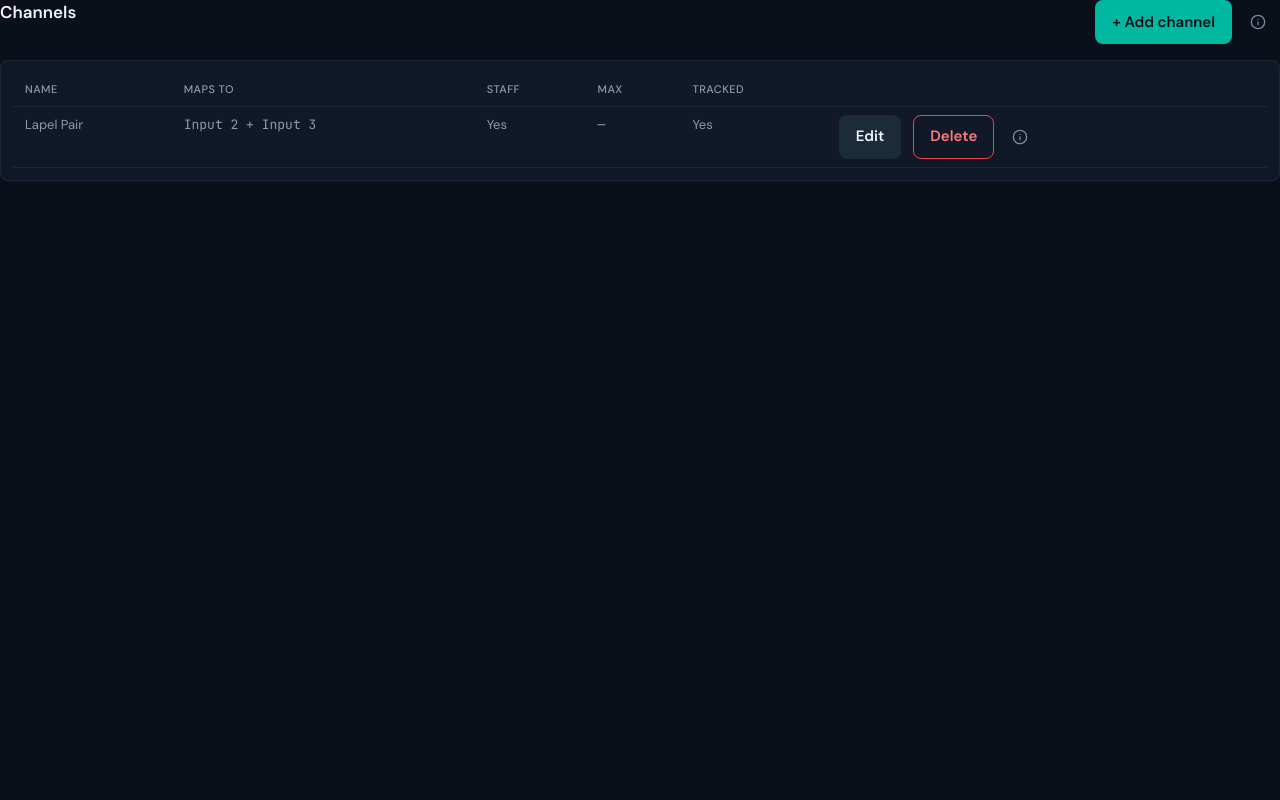
Test: ChannelsSection › shows the reference list on an in_use delete refusal
What coordinates should you click on to do the following:
click the button "Delete"
I would click on:
 (954, 136)
Its box is [913,114,994,158].
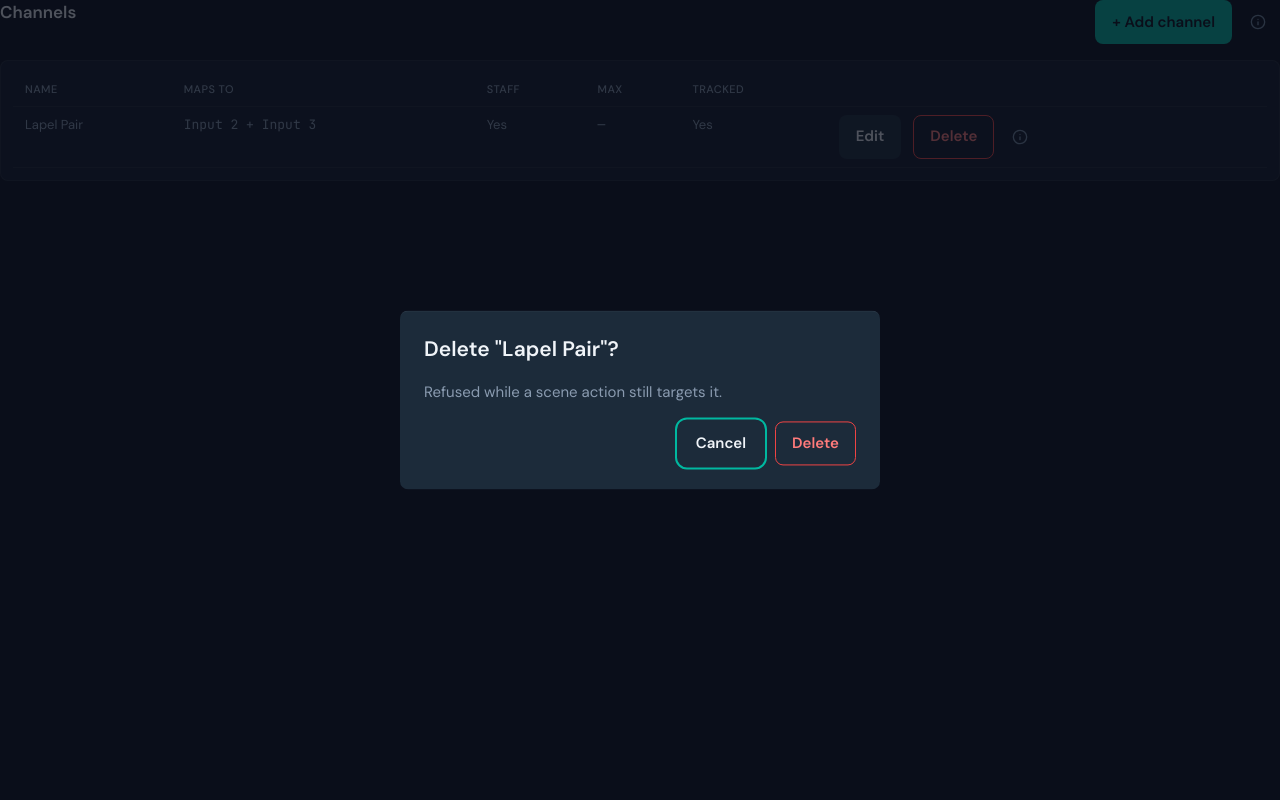
What coordinates should you click on to do the following:
click the button "Delete"
I would click on:
 (816, 444)
Its box is [775,422,856,466].
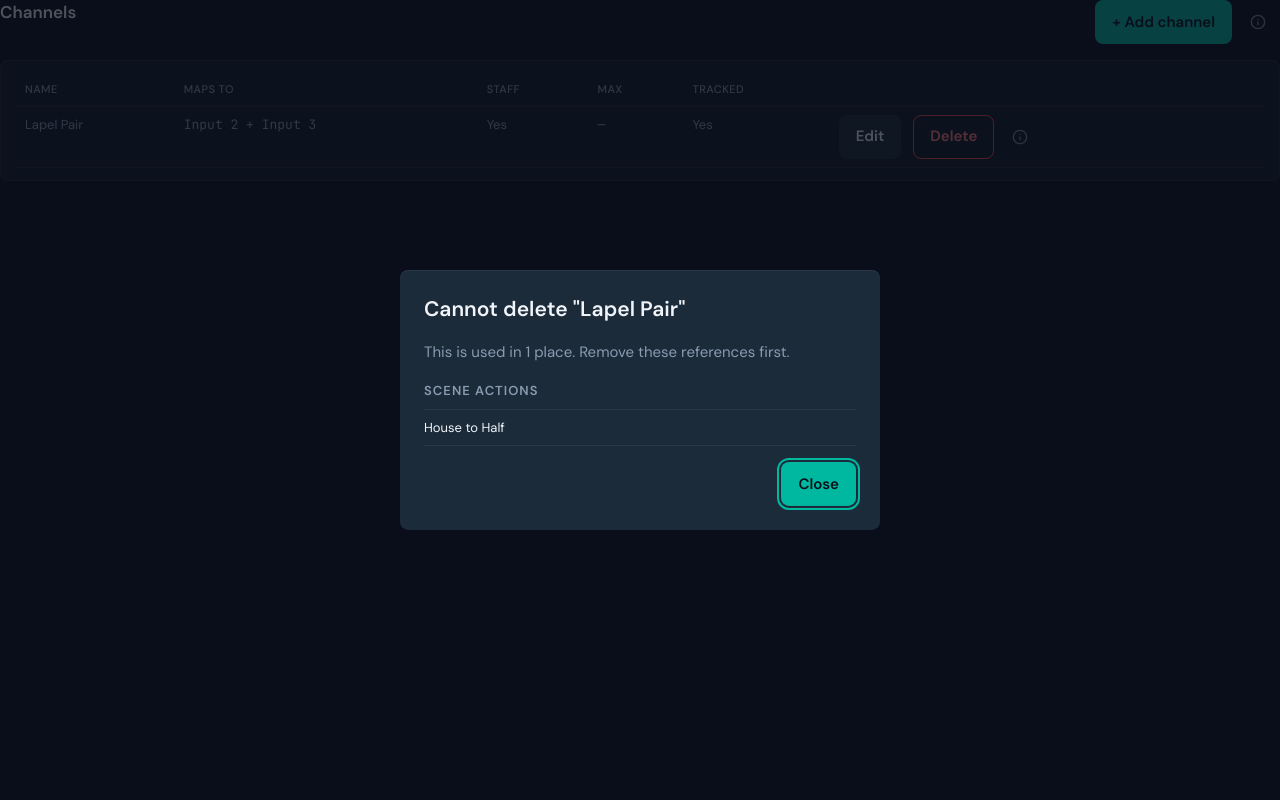
Expected: the text "House to Half" is shown, [424,419,505,436]
